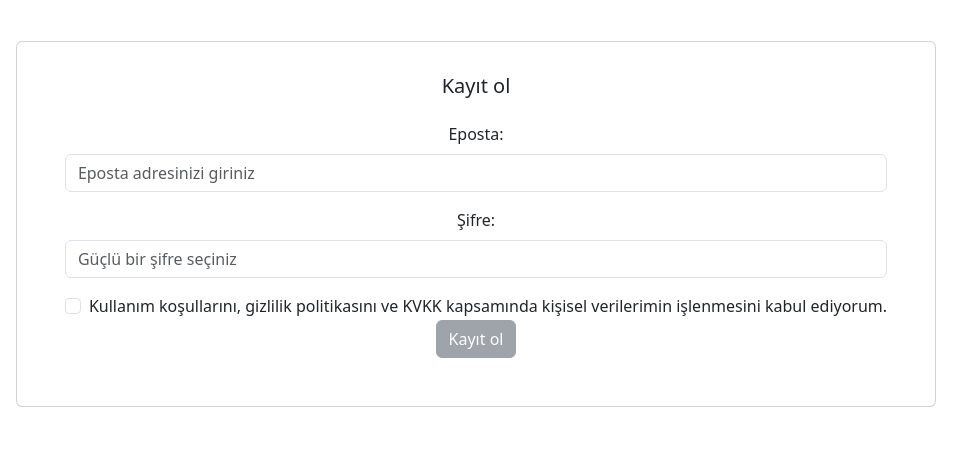
Test: login test run › wrong email and password
Type "test@test" into the field with test id "email" at [476, 173], box [65,154,887,192]
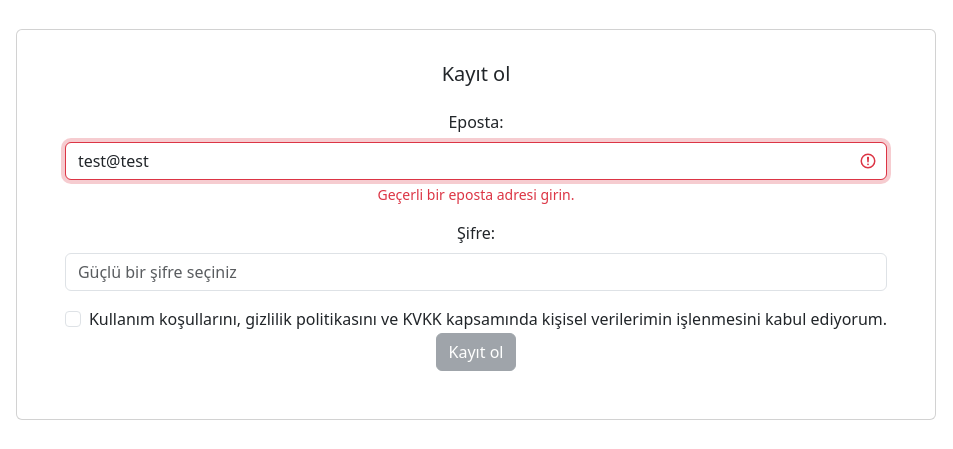
Type "12Ab*" into the password field with test id "password" at [476, 272], box [65,253,887,291]
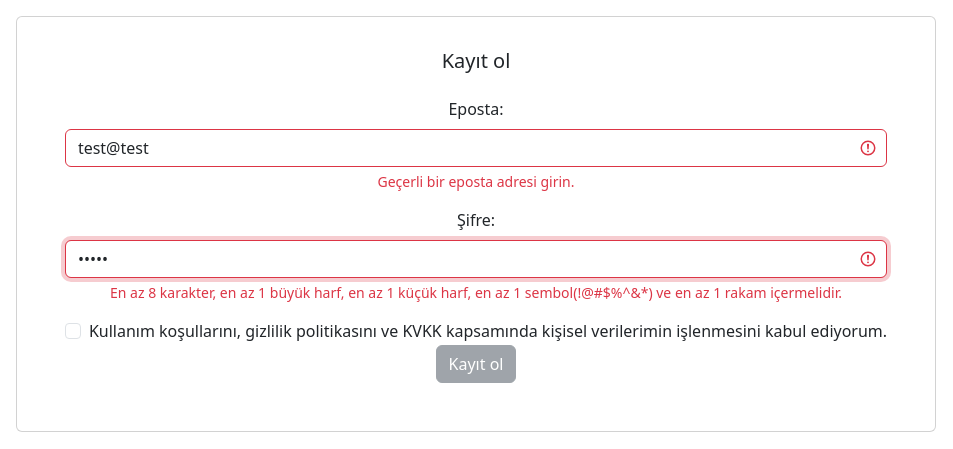
Check: the text "Geçerli bir eposta adresi girin." is shown, box [378,172,575,191]
Check: the text with test id "errorPassword" is shown, box [65,282,887,303]
Check: the text "En az 8 karakter, en az 1 büyük harf, en az 1 küçük harf, en az 1 sembol(!@#$%^&*) ve en az 1 rakam içermelidir." is shown, box [110,283,842,302]
